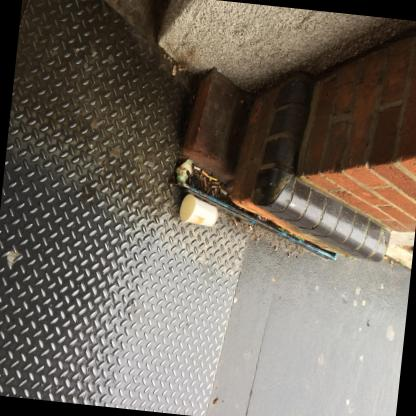Paper: (178, 194, 216, 226), (199, 169, 206, 176), (218, 188, 225, 195), (201, 176, 205, 186), (192, 165, 199, 170), (186, 167, 190, 174), (210, 190, 213, 197), (204, 188, 208, 193), (209, 185, 219, 187), (211, 181, 217, 184), (213, 188, 215, 197), (188, 165, 191, 171), (209, 192, 213, 196), (382, 255, 386, 258), (187, 178, 189, 183), (177, 67, 180, 70)
Waste: (174, 159, 193, 183)
